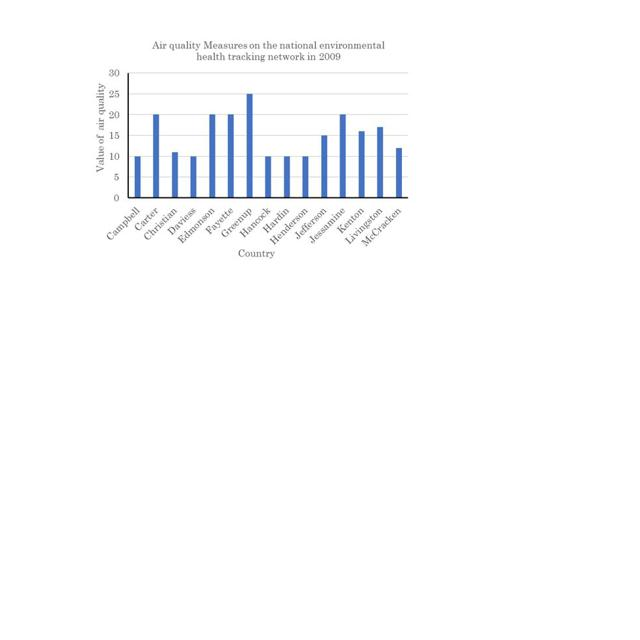Graph: (87, 34, 415, 261)
